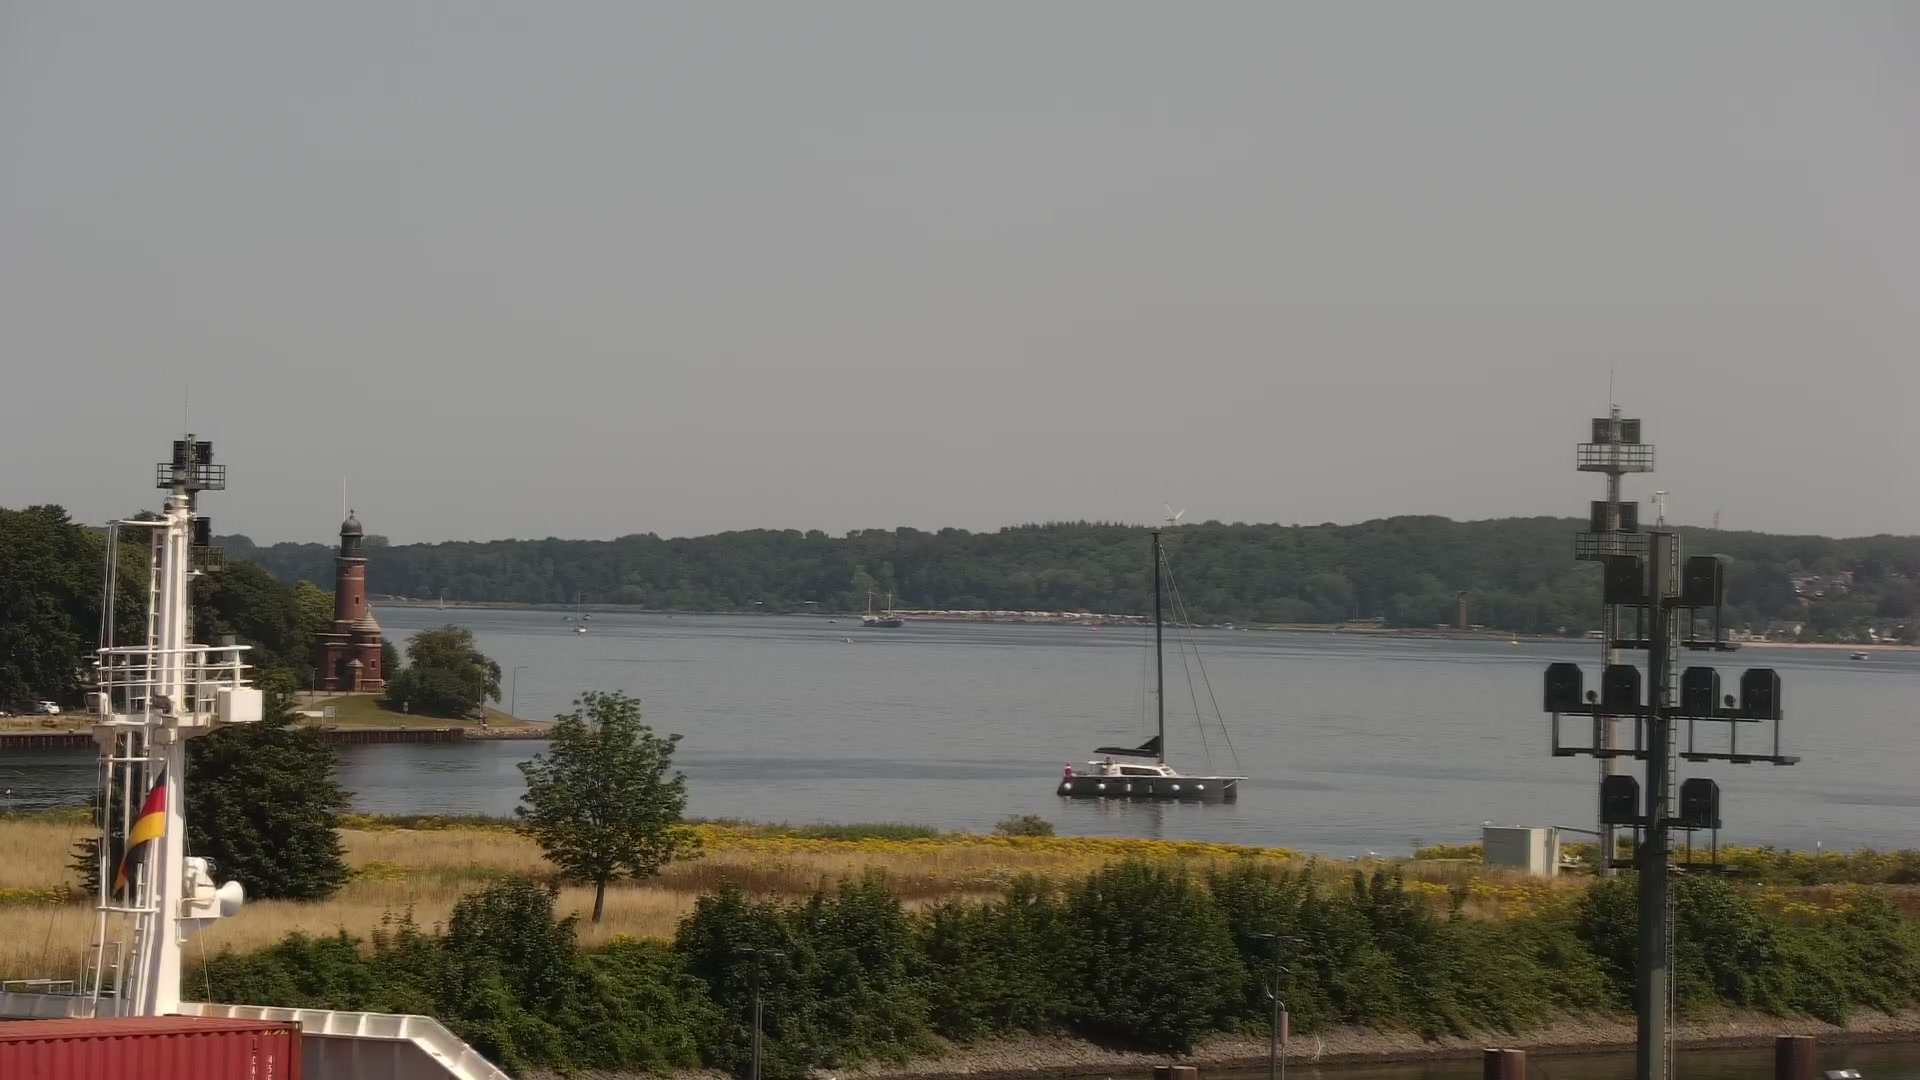land: (36, 700, 62, 713)
sea: (1, 426, 525, 1080), (1054, 530, 1249, 799), (858, 587, 905, 626), (574, 589, 588, 634), (1847, 651, 1873, 661)
